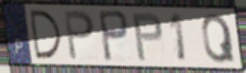1: (168, 11, 187, 64)
D: (27, 8, 64, 61)
P: (97, 9, 131, 64), (62, 9, 97, 62), (130, 12, 165, 63)
Q: (200, 12, 237, 65)
